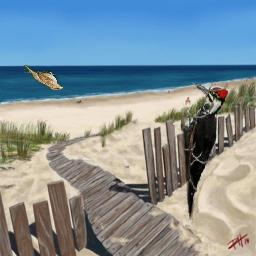Sparrow: (25, 66, 64, 91)
Woodpecker: (182, 83, 229, 224)
